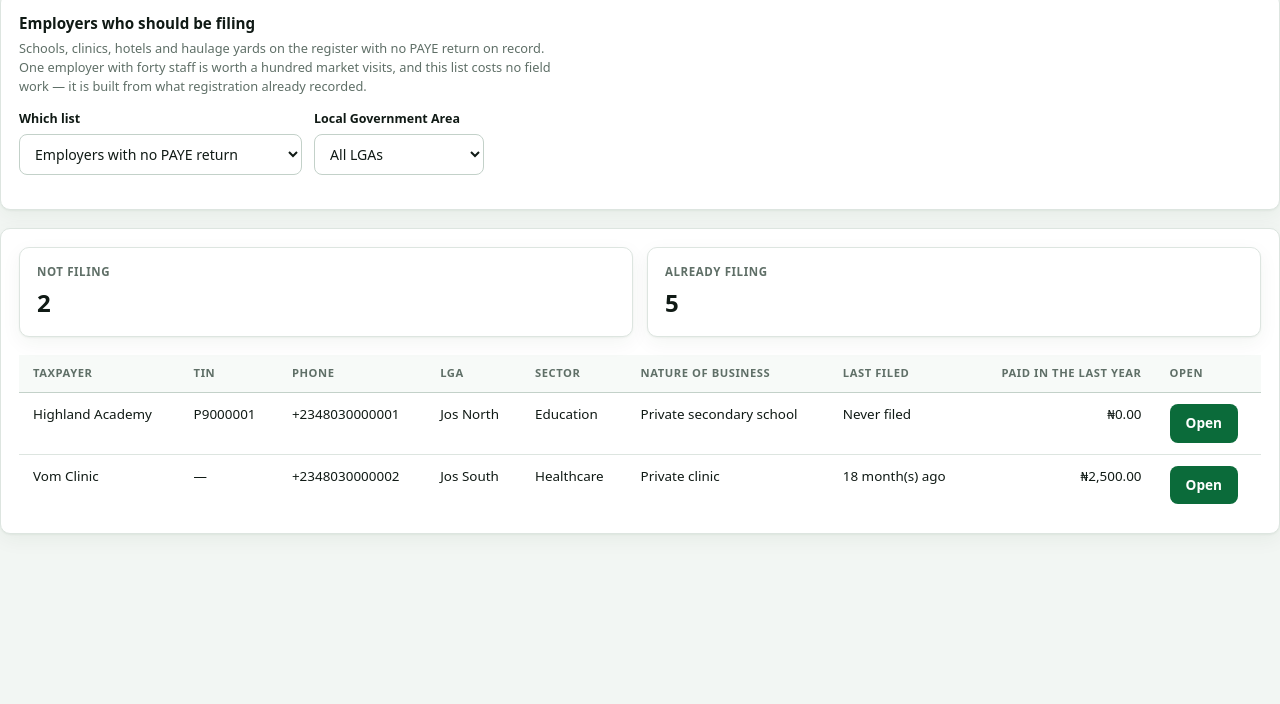
Test: withdrawing a return › offers no withdrawal on a return already withdrawn
expect the text "Highland Academy" is shown: met, box [19,393,180,454]
Click the button "Open" in the row of "Highland Academy" at (1204, 423), box [1170,404,1238,442]
(page scrolled)
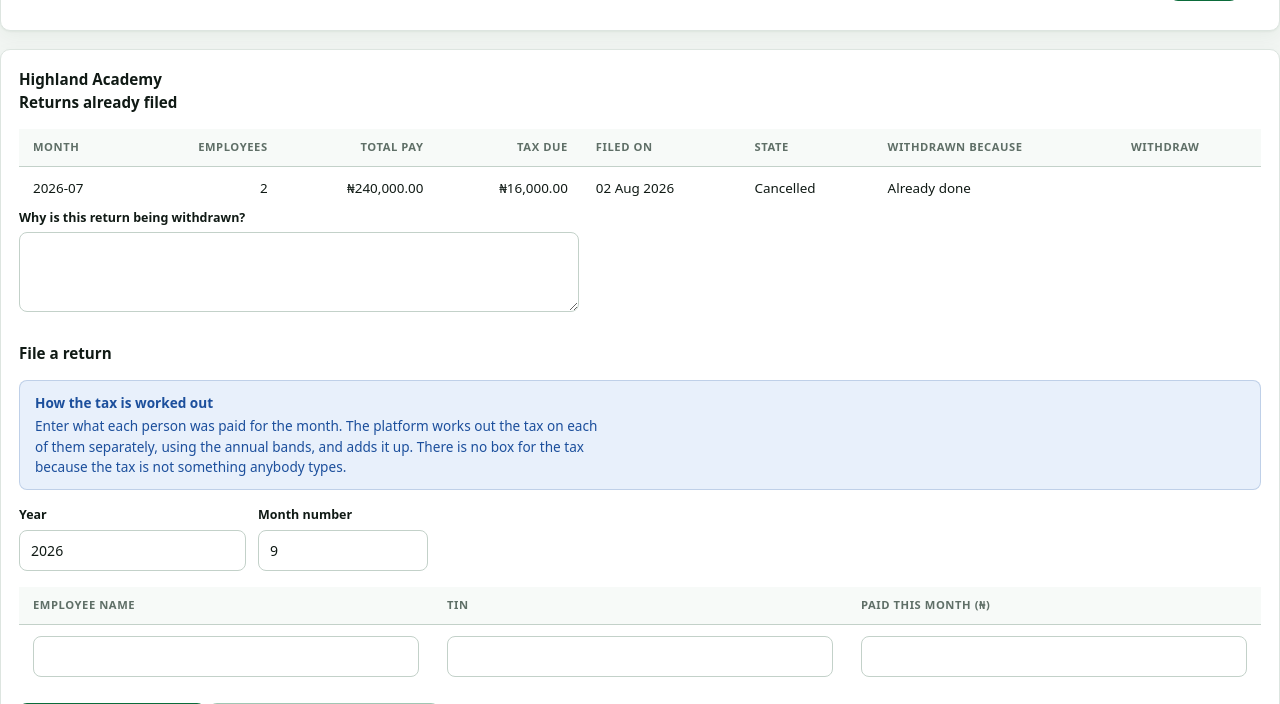
expect the heading "File a return" is shown: met, box [19,343,112,363]
